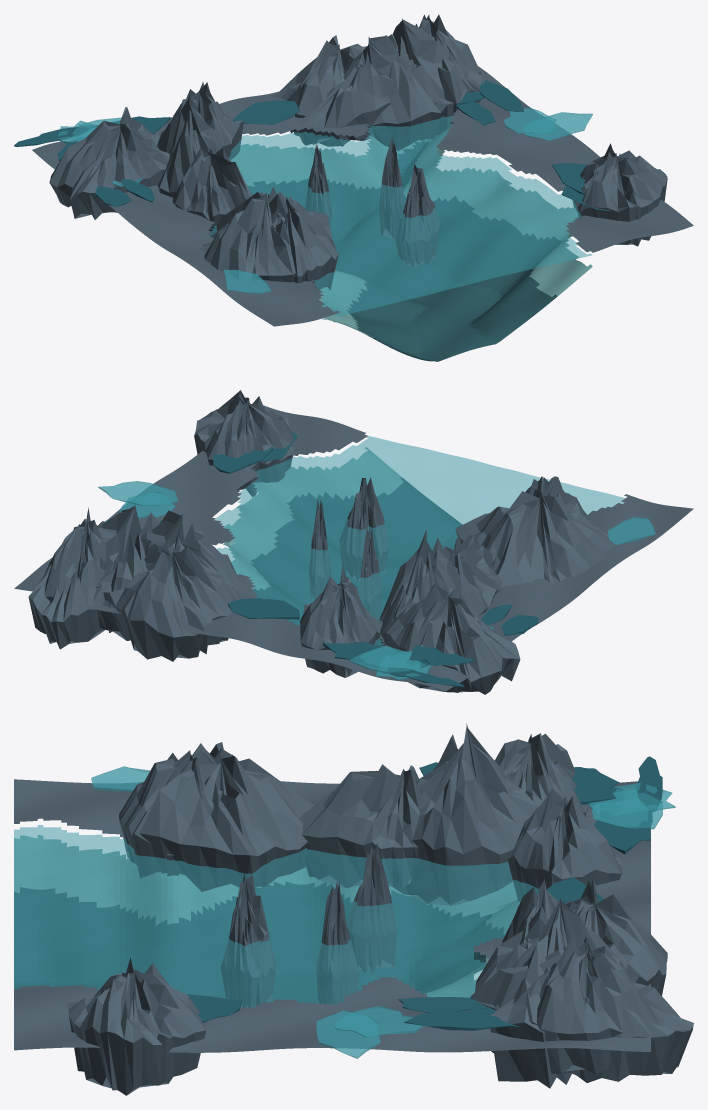
The model's file is water_tile_01.glb.
The picture shows the model from 3 angles, top to bottom: view 1: azimuth 30°, elevation 25°; view 2: azimuth 150°, elevation 25°; view 3: azimuth 270°, elevation 25°; orthographic projection. The views are drawn at different scales.
Visible parts, largest first — view 1: glacial water surface 01, submerged mineral riverbed.001, single continuous dark slate shoreline.001, visible shallow mineral shelves.001, angular fractured shoreline ledge.016, angular fractured shoreline ledge.020, angular fractured shoreline ledge.025, angular fractured shoreline ledge.019, angular fractured shoreline ledge.021, angular fractured shoreline ledge.026, angular fractured shoreline ledge.017, angular fractured shoreline ledge.027 (+15 smaller); view 2: glacial water surface 01, single continuous dark slate shoreline.001, submerged mineral riverbed.001, angular fractured shoreline ledge.017, angular fractured shoreline ledge.025, angular fractured shoreline ledge.016, visible shallow mineral shelves.001, angular fractured shoreline ledge.021, angular fractured shoreline ledge.023, angular fractured shoreline ledge.018, angular fractured shoreline ledge.020, angular fractured shoreline ledge.027 (+18 smaller); view 3: glacial water surface 01, submerged mineral riverbed.001, single continuous dark slate shoreline.001, angular fractured shoreline ledge.025, angular fractured shoreline ledge.027, visible shallow mineral shelves.001, angular fractured shoreline ledge.021, angular fractured shoreline ledge.026, angular fractured shoreline ledge.023, angular fractured shoreline ledge.022, angular fractured shoreline ledge.018, angular fractured shoreline ledge.020 (+19 smaller).
Boxes of the visible parts, x1,y1,x2,y2 form: glacial water surface 01: (209,115,591,316); submerged mineral riverbed.001: (248,139,562,361); single continuous dark slate shoreline.001: (32,66,693,326); visible shallow mineral shelves.001: (231,126,592,337); angular fractured shoreline ledge.016: (49,107,169,219); angular fractured shoreline ledge.020: (369,18,478,150); angular fractured shoreline ledge.025: (200,187,335,282); angular fractured shoreline ledge.019: (300,36,421,146); angular fractured shoreline ledge.021: (572,143,667,246); angular fractured shoreline ledge.026: (172,142,252,236); angular fractured shoreline ledge.017: (272,35,369,146); angular fractured shoreline ledge.027: (157,94,230,197); glacial water surface 01: (214,436,625,646); single continuous dark slate shoreline.001: (14,405,693,691); submerged mineral riverbed.001: (250,477,461,645); angular fractured shoreline ledge.017: (100,544,239,661); angular fractured shoreline ledge.025: (455,476,615,587); angular fractured shoreline ledge.016: (382,584,520,694); visible shallow mineral shelves.001: (223,447,403,598); angular fractured shoreline ledge.021: (194,390,293,496); angular fractured shoreline ledge.023: (28,518,105,649); angular fractured shoreline ledge.018: (300,566,382,677); angular fractured shoreline ledge.020: (93,505,159,630); angular fractured shoreline ledge.027: (379,529,467,646); glacial water surface 01: (14,825,538,1007); submerged mineral riverbed.001: (14,881,505,1006); single continuous dark slate shoreline.001: (14,779,650,1052); angular fractured shoreline ledge.025: (139,742,313,891); angular fractured shoreline ledge.027: (392,723,536,905); visible shallow mineral shelves.001: (14,835,520,997); angular fractured shoreline ledge.021: (67,957,206,1095); angular fractured shoreline ledge.026: (299,764,429,888); angular fractured shoreline ledge.023: (470,941,693,1088); angular fractured shoreline ledge.022: (536,936,658,1074); angular fractured shoreline ledge.018: (507,788,623,901); angular fractured shoreline ledge.020: (475,898,627,1076).
Size of the model in its own units: 1.12 by 0.3729 by 1.07.
